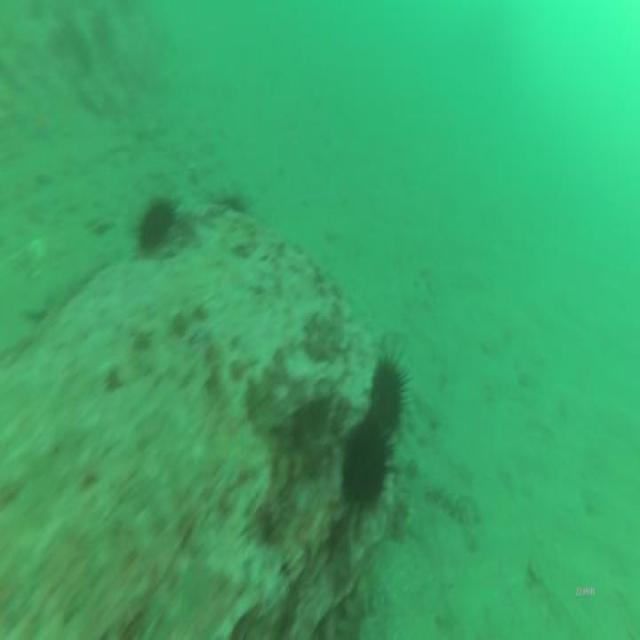echinus: (340, 416, 392, 514), (368, 352, 411, 434), (134, 191, 180, 259)
holothurian: (423, 477, 482, 534)
